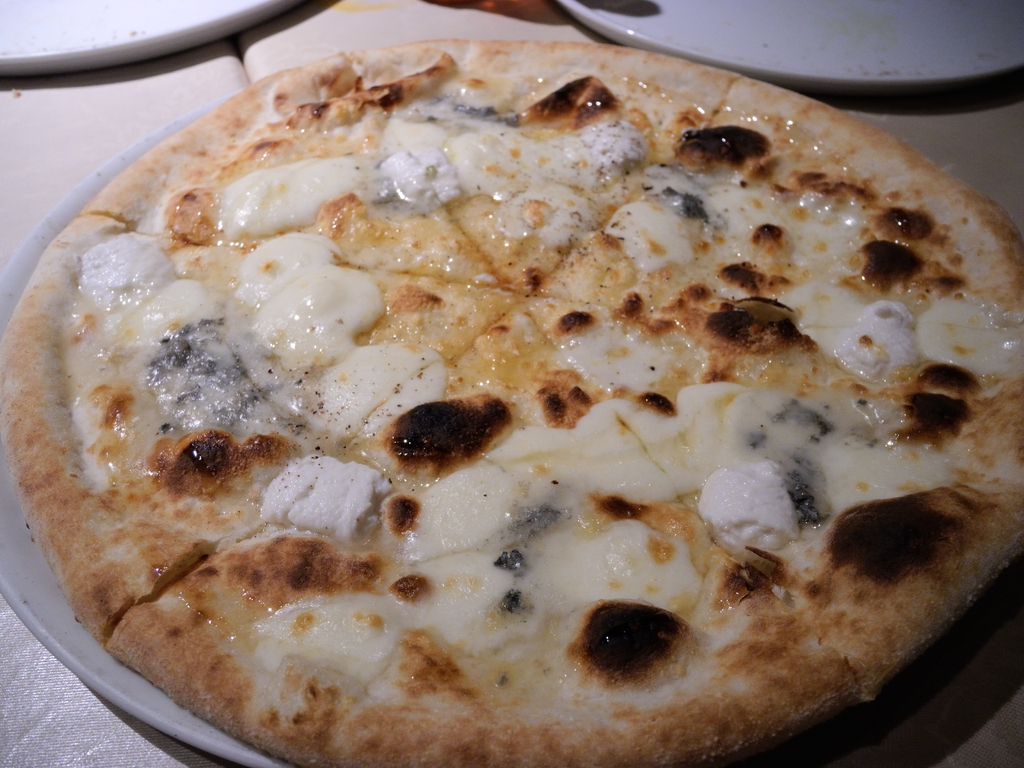Pizza: (0, 27, 1024, 762)
